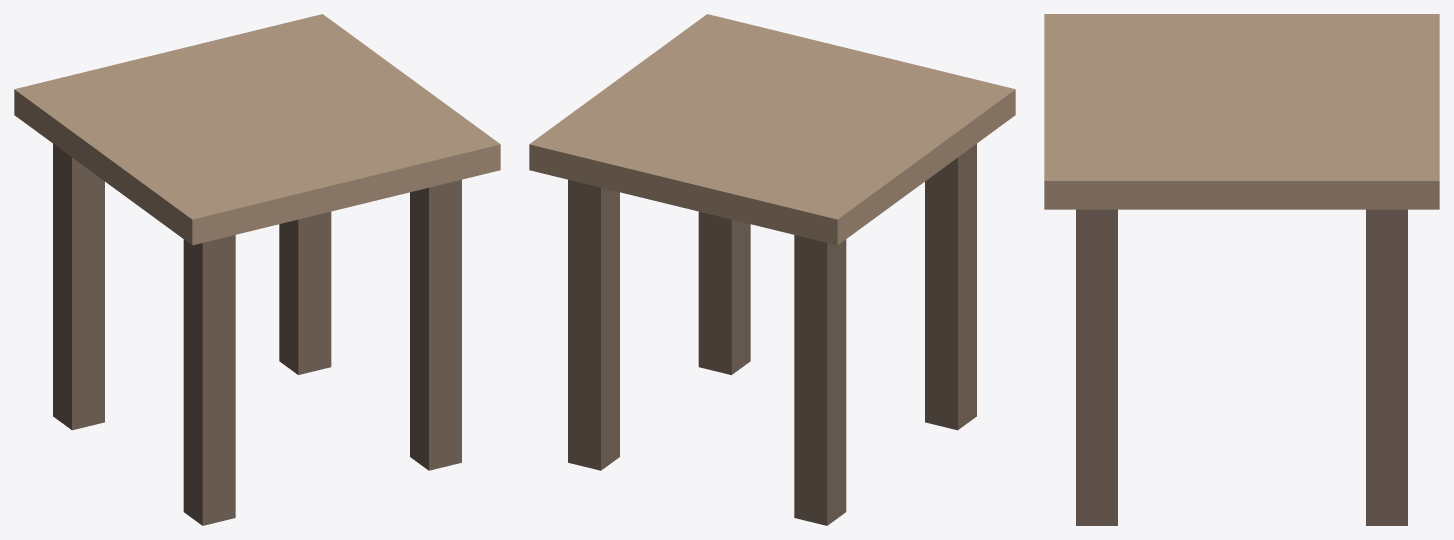
Rendered from chess_table.glb.
The picture shows the model from 3 angles, left to right: view 1: azimuth 30°, elevation 25°; view 2: azimuth 150°, elevation 25°; view 3: azimuth 270°, elevation 25°; orthographic projection. The views are drawn at different scales.
Visible parts, largest first — view 1: p000, p001, p002, p003, p004; view 2: p000, p003, p004, p001, p002; view 3: p000, p002, p004.
Part boxes in pixels (bbox=[...]): p000: bbox=[14, 14, 500, 245]; p001: bbox=[183, 235, 235, 525]; p002: bbox=[410, 179, 461, 470]; p003: bbox=[53, 144, 104, 430]; p004: bbox=[279, 211, 331, 374]; p000: bbox=[529, 14, 1015, 245]; p003: bbox=[794, 235, 846, 525]; p004: bbox=[568, 179, 619, 470]; p001: bbox=[925, 144, 976, 430]; p002: bbox=[698, 211, 750, 374]; p000: bbox=[1044, 14, 1439, 209]; p002: bbox=[1076, 209, 1117, 525]; p004: bbox=[1366, 209, 1407, 525].
Size of the model in its own units: 0.75 by 0.75 by 0.75.
